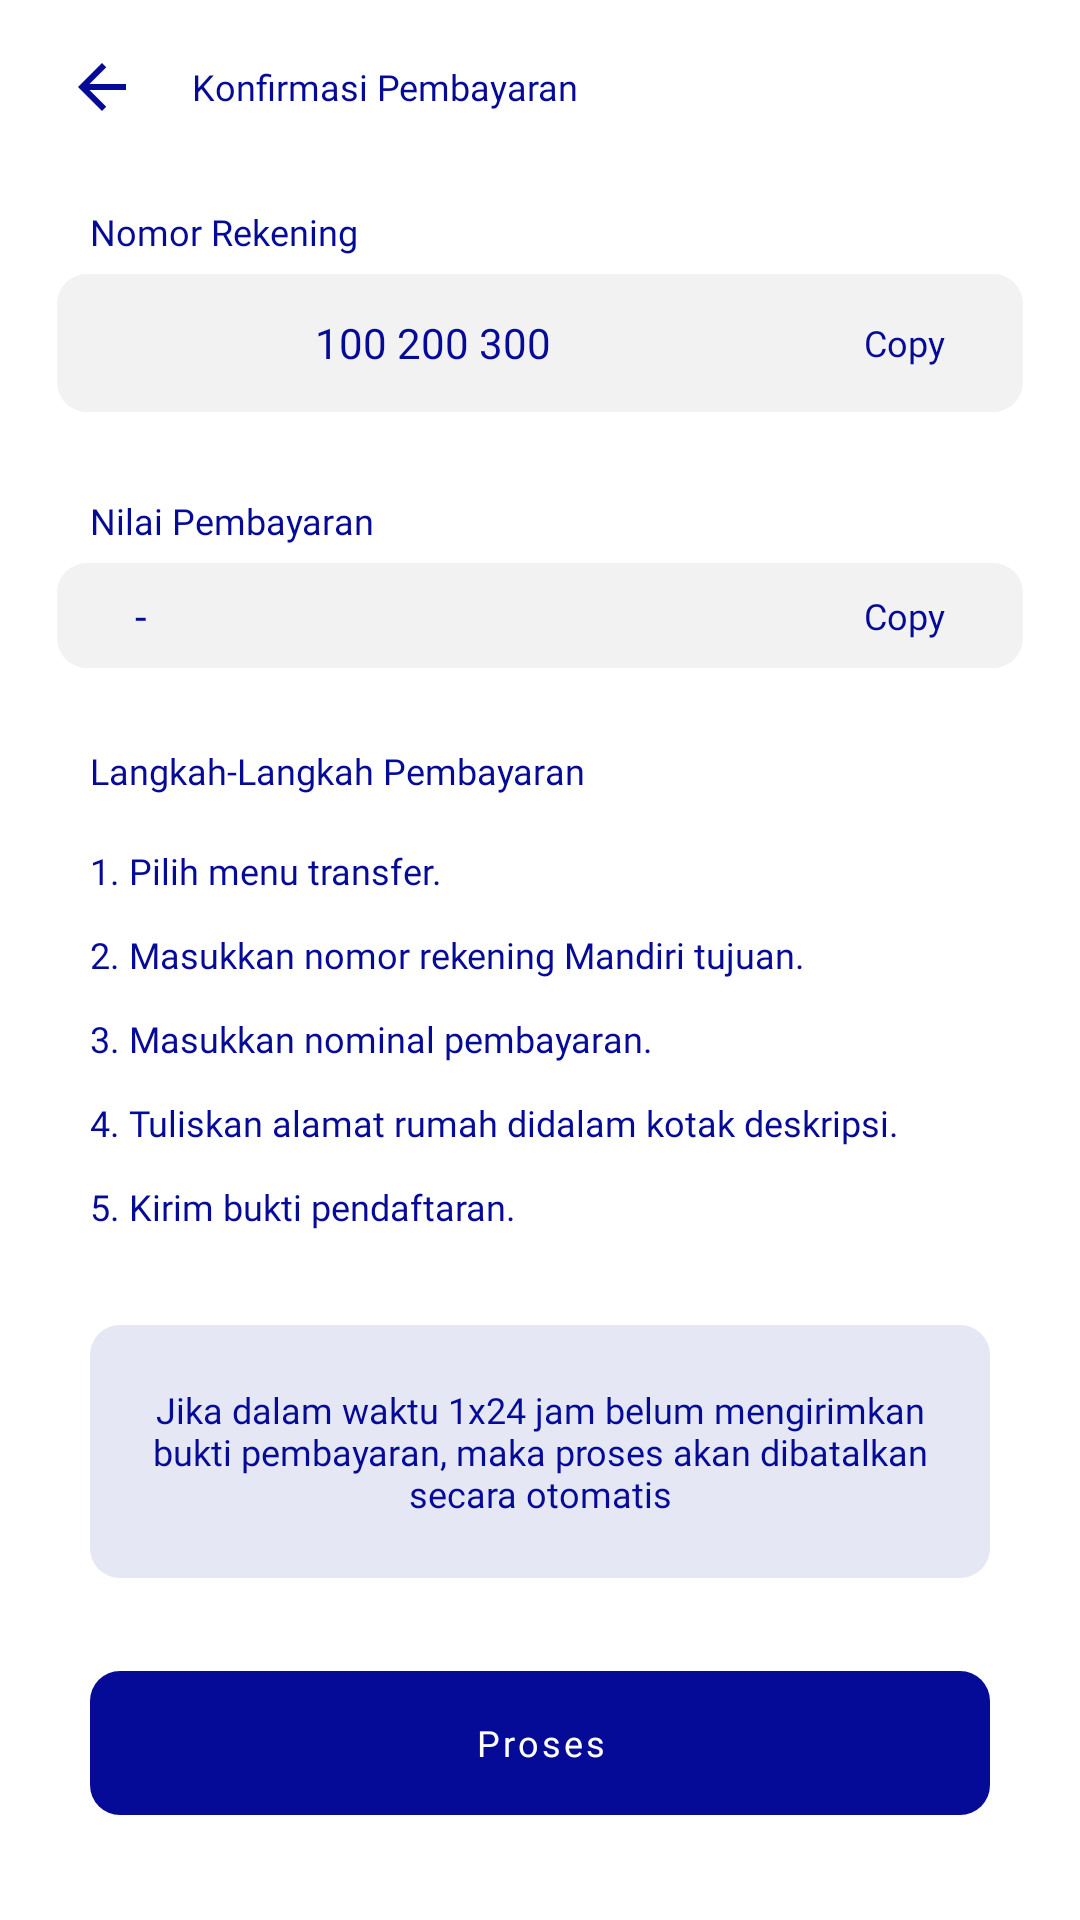

Named icons in this screenshot (1080 × 1920) and their centers, [x,y]:
back: [102,87]
